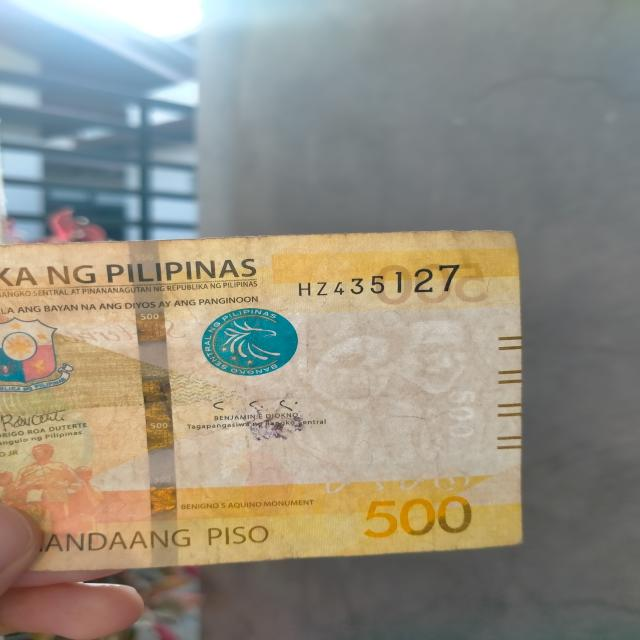security_thread: (123, 237, 182, 568)
see_through_mark: (293, 462, 481, 502)
value_watermark: (435, 382, 483, 448)
watermark: (287, 283, 467, 474)
